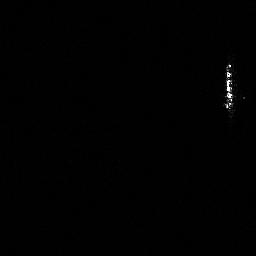ship: (219, 60, 239, 115)
